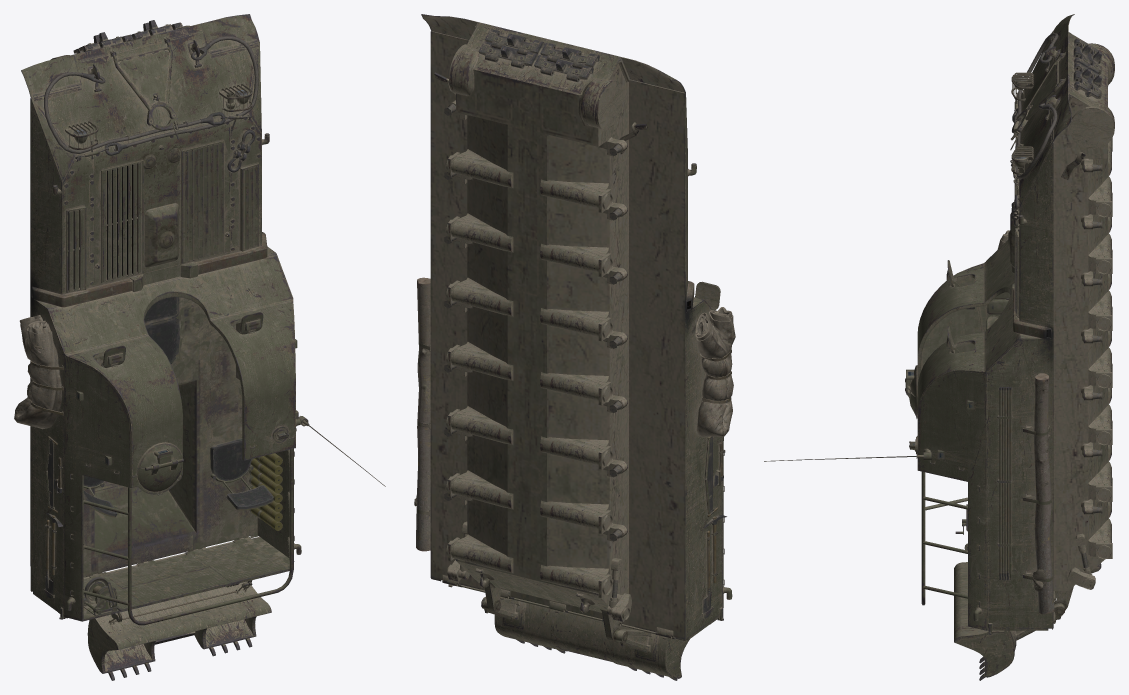
File: Hull.glb
3 renders of one model, left to right at view 1: azimuth 30°, elevation 25°; view 2: azimuth 150°, elevation 25°; view 3: azimuth 270°, elevation 25°, orthographic. The views are drawn at different scales.
Parts seen in each view (by area): view 1: set_0_group_0, set_0_group_1; view 2: set_0_group_0; view 3: set_0_group_0, set_0_group_1.
Part boxes in pixels (x1,y1,x2,y2): set_0_group_0: (14,14,385,680); set_0_group_1: (83,297,289,619); set_0_group_0: (414,14,735,680); set_0_group_0: (764,14,1114,680); set_0_group_1: (921,277,1010,534).
Size of the model in its own units: 4.07 by 8.49 by 4.57.
Materials: 2 (2 with a texture image).
